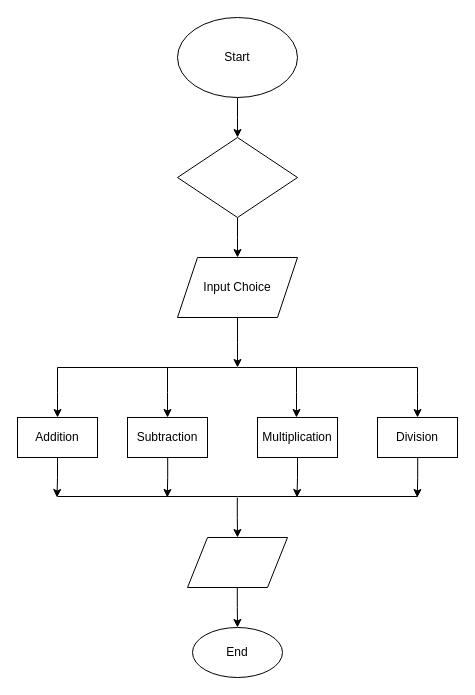
Some shapes in this 475 by 695 pixel diagram are drawn without their labels. Each missing label, with the centre of its shape:
"Display Menu" belongs at [237,177].
"Result" belongs at [237,562].
